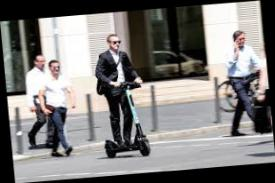nonhelmet: (89, 31, 152, 160)
